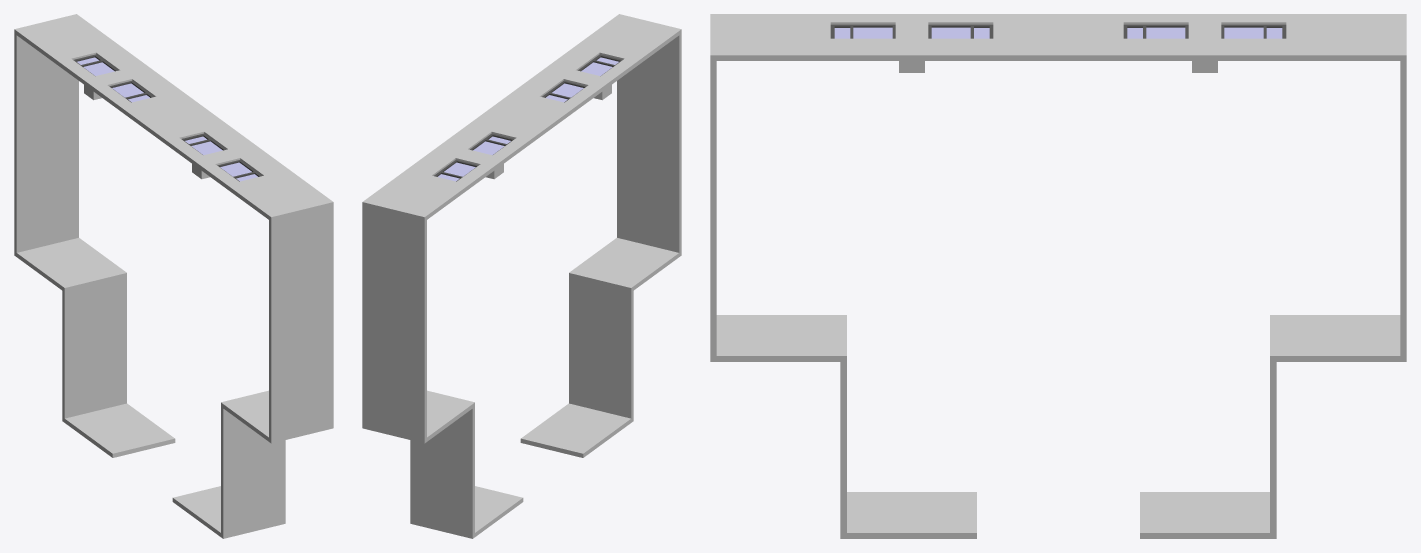
Rendered from Mur_SFC_GLB.gltf.
The picture shows the model from 3 angles, left to right: view 1: azimuth 30°, elevation 25°; view 2: azimuth 150°, elevation 25°; view 3: azimuth 270°, elevation 25°; orthographic projection. The views are drawn at different scales.
Parts seen in each view (by area): view 1: Mur-SFC; view 2: Mur-SFC; view 3: Mur-SFC.
Boxes of the visible parts, x1=… form: Mur-SFC: x1=14, y1=14, x2=333, y2=538; Mur-SFC: x1=362, y1=14, x2=681, y2=538; Mur-SFC: x1=710, y1=14, x2=1406, y2=538.
Size of the model in its own units: 3 by 16.4 by 21.4.
